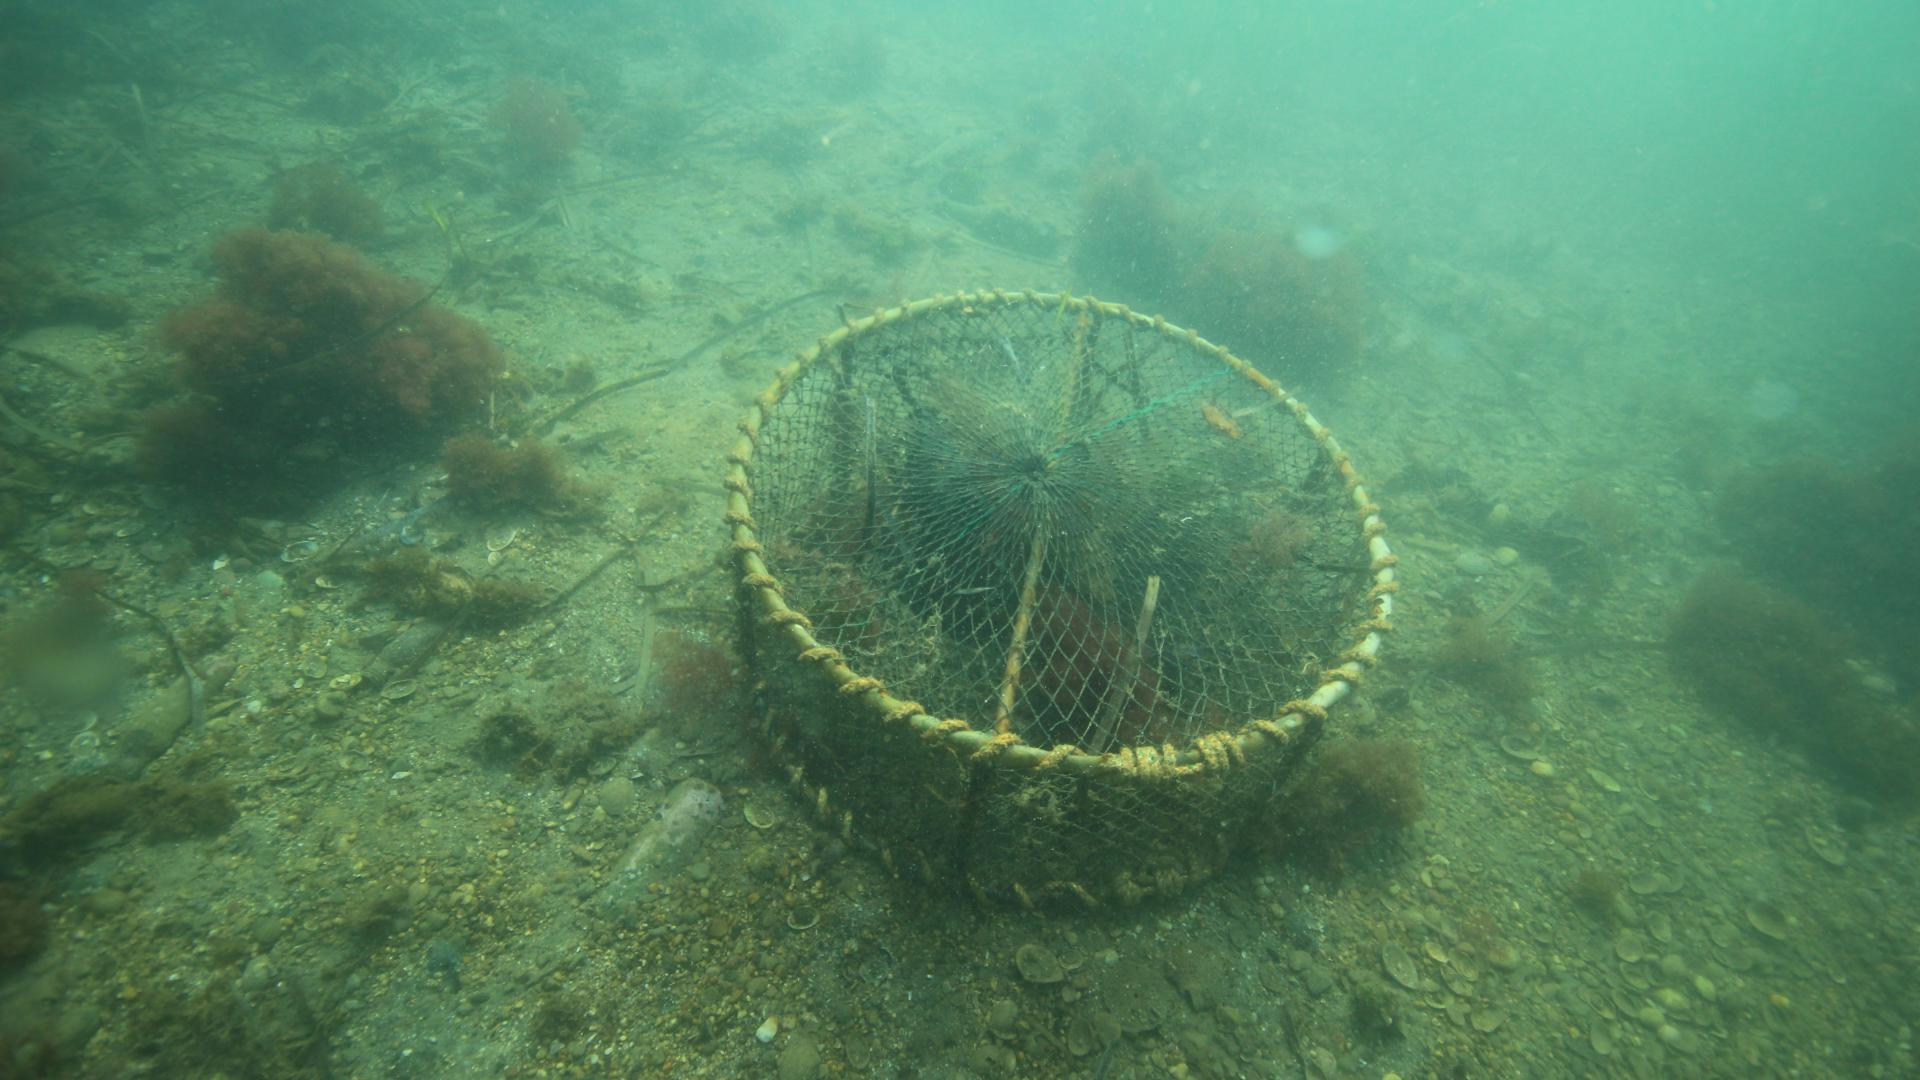circular fish trap: (720, 287, 1399, 905)
